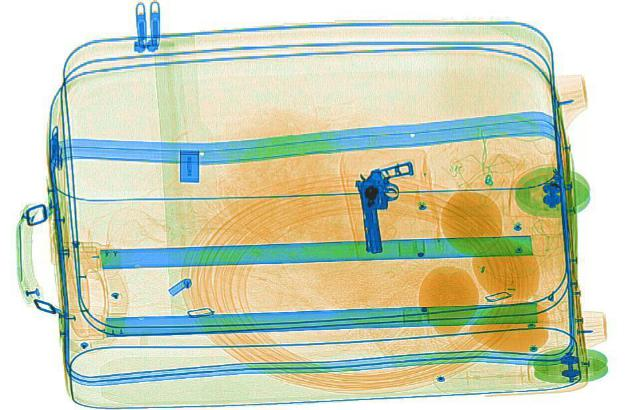Gun: (354, 160, 421, 252)
